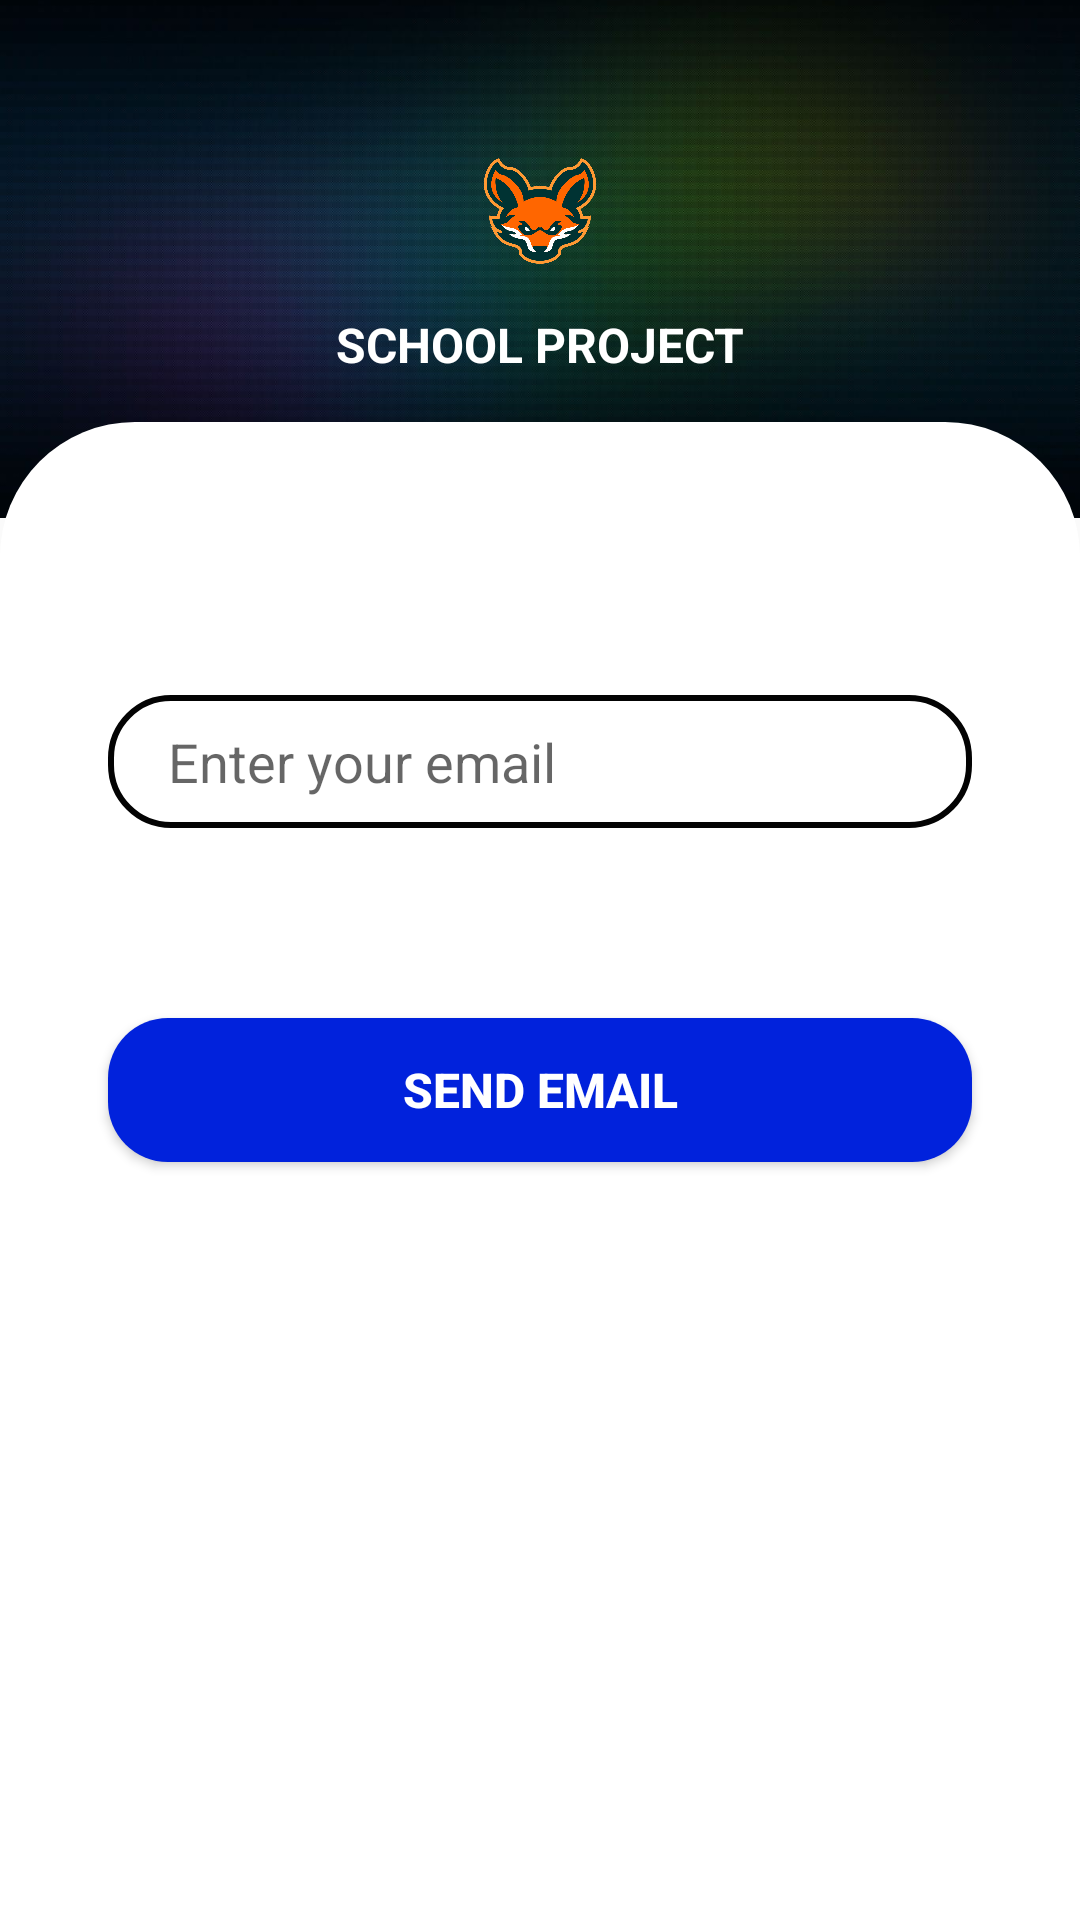

Where to tap for icons on this 1080w x 1920h app screen, as point (x, y):
fox: point (540, 211)
